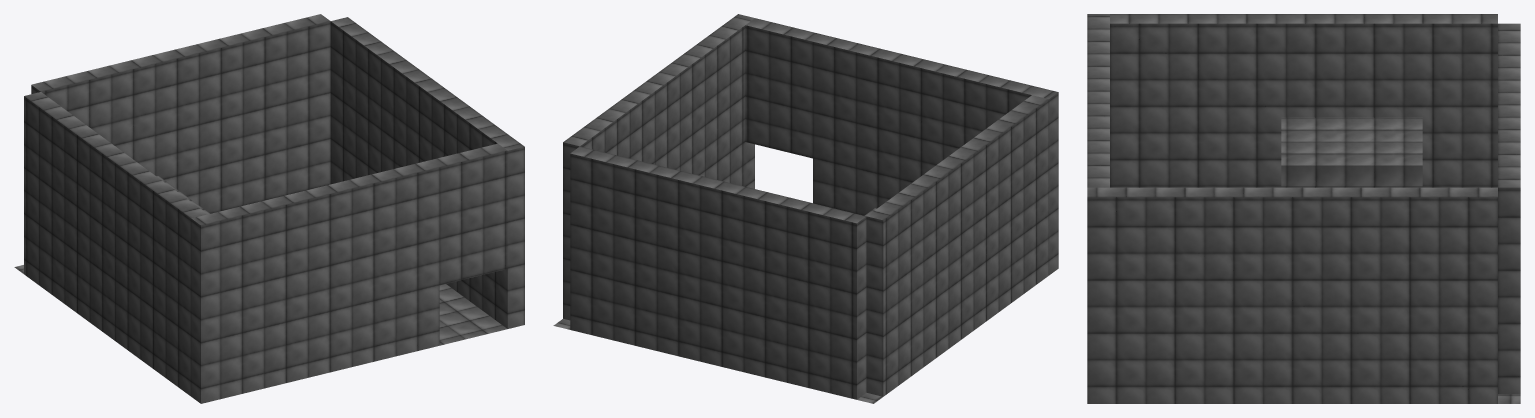
Rendered from Level_11.fbx.
The picture shows the model from 3 angles, left to right: view 1: azimuth 30°, elevation 25°; view 2: azimuth 150°, elevation 25°; view 3: azimuth 270°, elevation 25°; orthographic projection. The views are drawn at different scales.
Visible parts, largest first — view 1: Ground; view 2: Ground; view 3: Ground.
Boxes of the visible parts, x1,y1,x2,y2 form: Ground: (14, 14, 524, 403); Ground: (553, 14, 1058, 403); Ground: (1087, 14, 1520, 403).
Size of the model in its own units: 19 by 19 by 10.
